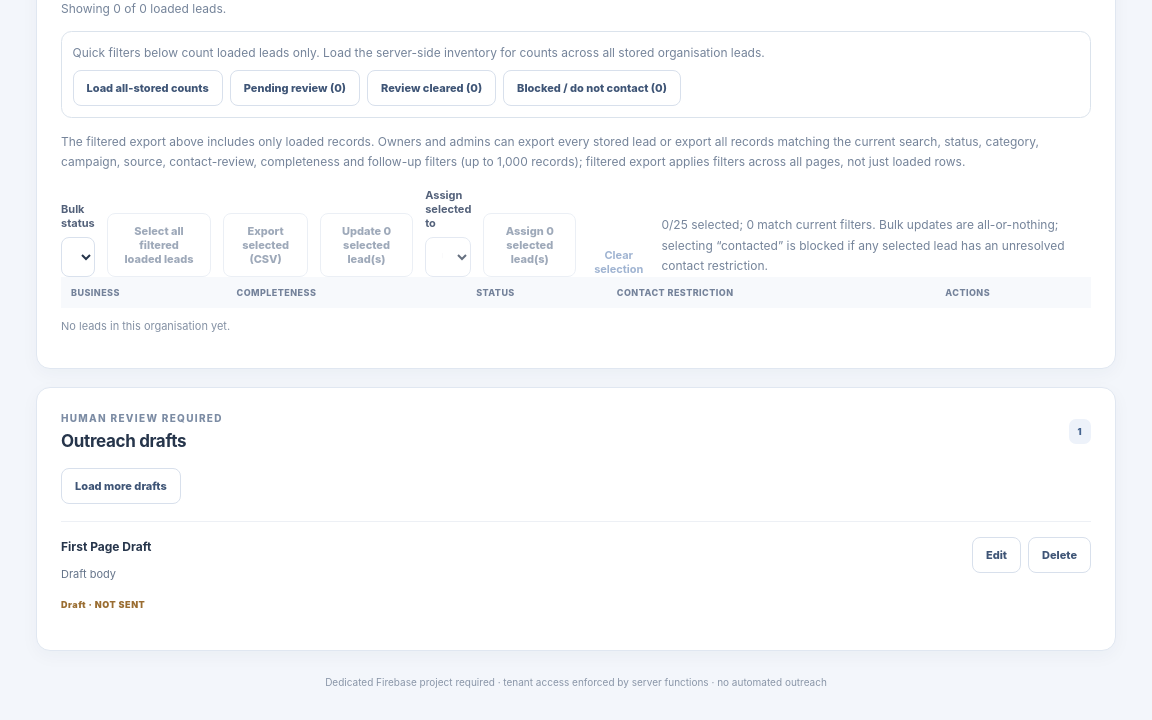
Test case: cloud authentication gate › loads additional draft pages without replacing or duplicating the first page
(page scrolled)
Expected: the text "First Page Draft" is shown, [61,538,151,554]
Click the button "Load more drafts". click: (121, 486)
box: [61,468,181,504]
(page scrolled)
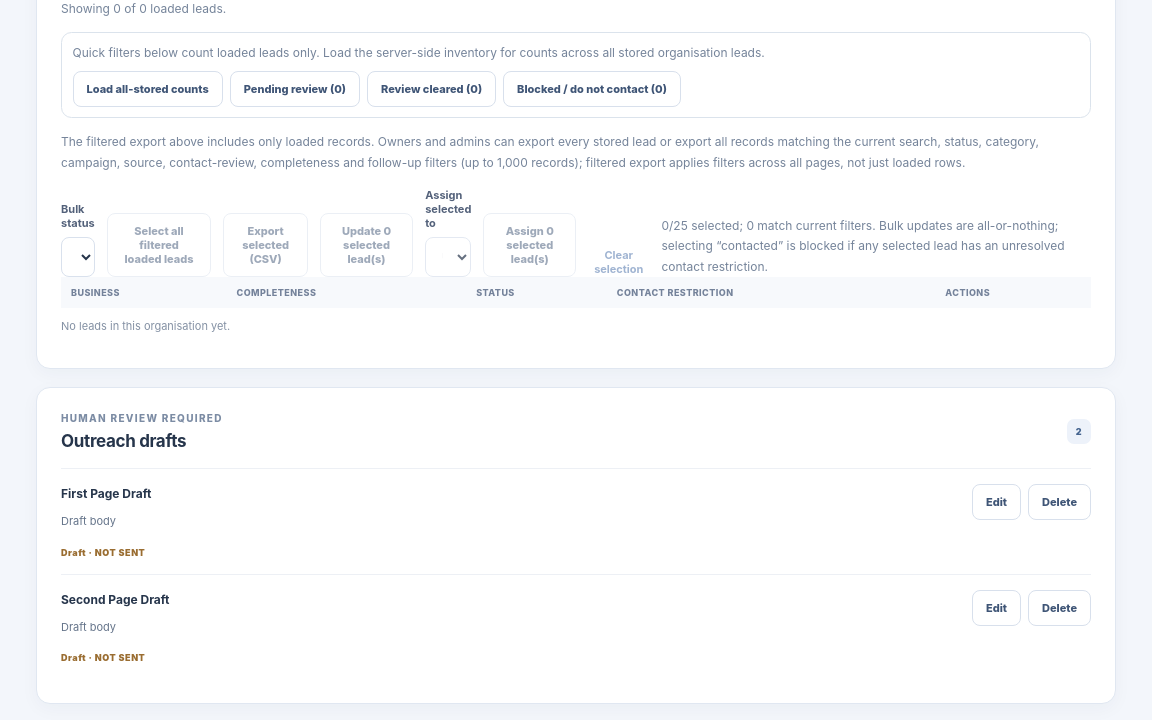
Now the text "Second Page Draft" is shown, box [61,592,170,607]
Now the text "First Page Draft" is shown once, box [61,486,151,501]
Now the button "Load more drafts" is gone
